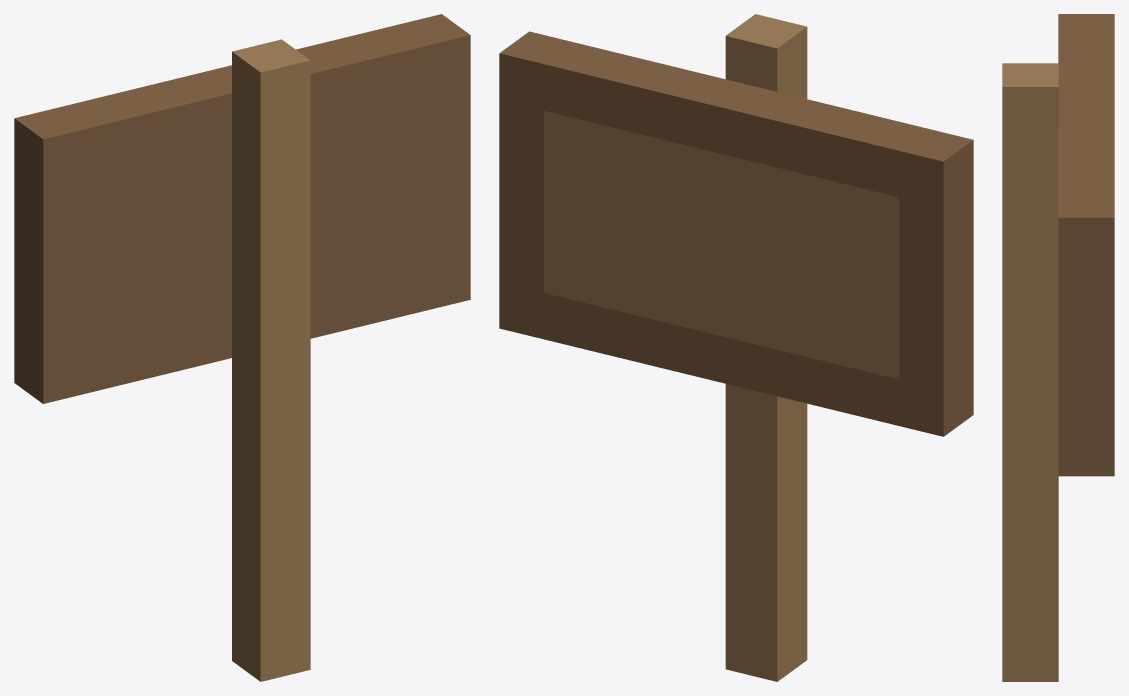
The model's file is sign.glb.
3 views of the same model, side by side, from view 1: azimuth 30°, elevation 25°; view 2: azimuth 150°, elevation 25°; view 3: azimuth 270°, elevation 25° (orthographic). The views are drawn at different scales.
Parts seen in each view (by area): view 1: sign; view 2: sign; view 3: sign.
Part boxes in pixels (bbox=[...]): sign: bbox=[14, 14, 470, 681]; sign: bbox=[499, 14, 973, 681]; sign: bbox=[1002, 14, 1114, 681].
Size of the model in its own units: 0.3 by 0.4088 by 0.07.
